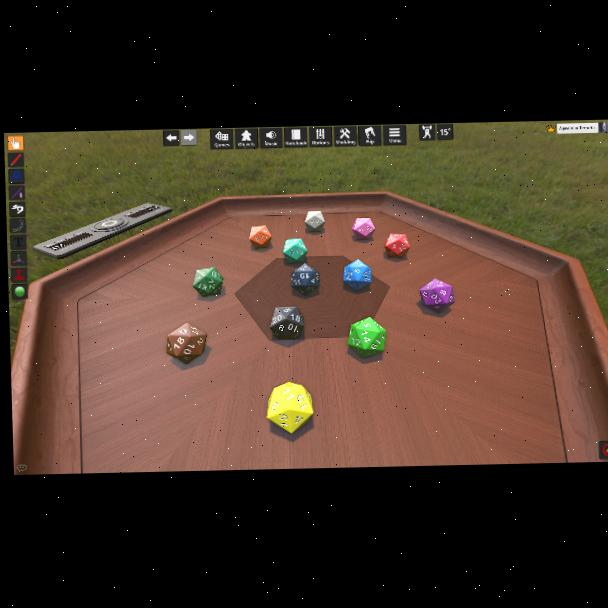d20: (265, 381, 315, 433), (165, 322, 209, 365), (347, 317, 385, 357), (270, 305, 306, 339), (423, 278, 456, 313), (193, 267, 224, 298), (343, 259, 372, 291), (291, 264, 320, 295), (283, 239, 309, 264), (387, 234, 410, 259), (249, 226, 272, 249), (351, 218, 375, 240), (304, 210, 325, 232)
